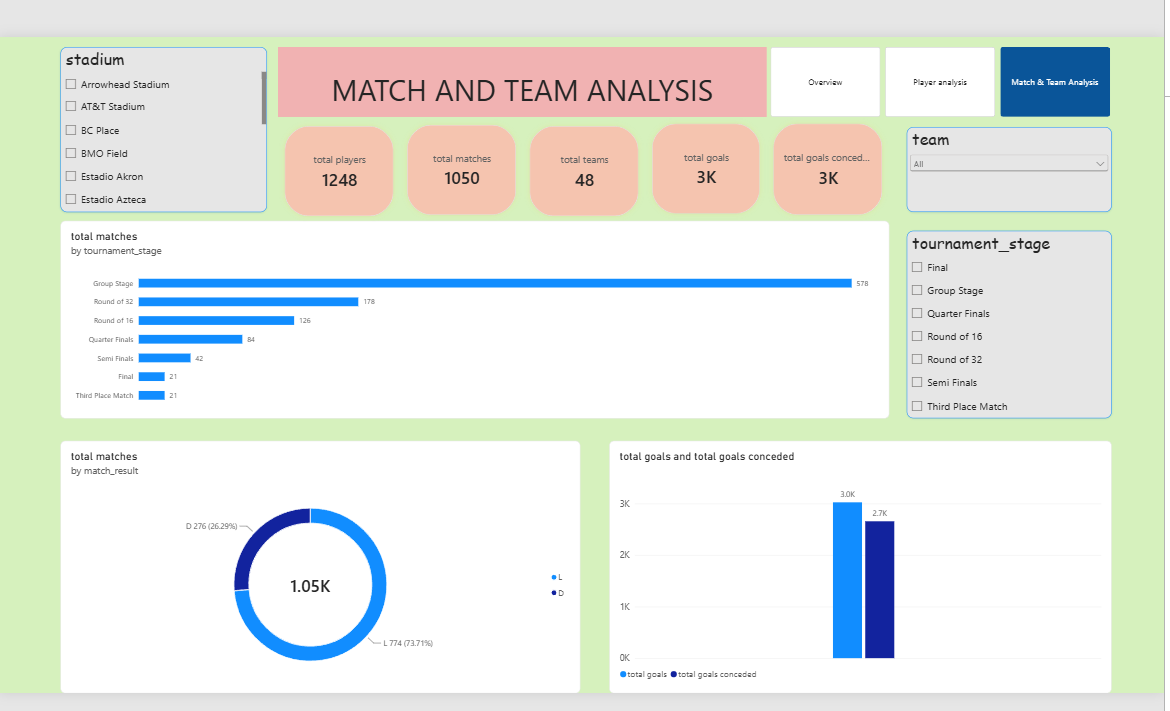

What the dashboard file says about the page in this screenshot:
{"tool":"powerbi","page":{"name":"Match & Team Analysis","canvas":[1920,1080],"ordinal":2},"visuals":[{"type":"cardVisual","fields":{"Data":["fifa_world_cup matches.total matches"]},"box":[662.8,133.8,201.7,170.8],"z":0},{"type":"cardVisual","fields":{"Data":["fifa_world_cup matches.total teams"]},"box":[864.5,135.8,201.7,170.8],"z":1},{"type":"cardVisual","fields":{"Data":["fifa_world_cup matches.total goals"]},"box":[1066.2,131.7,199.7,170.8],"z":2},{"type":"clusteredColumnChart","fields":{"Y":["fifa_world_cup matches.total goals","fifa_world_cup matches.total goals conceded"]},"box":[1006.5,664.8,827.4,415.8],"z":3},{"type":"cardVisual","fields":{"Data":["fifa_world_cup matches.total goals conceded"]},"box":[1265.9,131.7,201.7,172.9],"z":4},{"type":"barChart","fields":{"Y":["fifa_world_cup matches.total matches"],"Category":["fifa_world_cup matches.tournament_stage"]},"box":[102.9,310.8,1364.7,325.2],"z":5},{"type":"donutChart","fields":{"Y":["fifa_world_cup matches.total matches"],"Category":["fifa_world_cup matches.match_result"]},"box":[102.9,664.8,856.3,415.8],"z":6},{"type":"slicer","fields":{"Values":["fifa_world_cup matches.tournament_stage"]},"box":[1496.4,319,337.6,308.7],"z":7},{"type":"slicer","fields":{"Values":["fifa_world_cup players.team"]},"box":[1496.4,148.2,337.6,140],"z":8},{"type":"textbox","box":[461.1,16.5,804.8,115.3],"z":9},{"type":"pageNavigator","box":[1272,16.5,561.9,115.3],"z":10},{"type":"cardVisual","fields":{"Data":["fifa_world_cup matches.total players"]},"box":[461.1,135.8,201.7,170.8],"z":11},{"type":"slicer","fields":{"Values":["fifa_world_cup matches.stadium"]},"box":[102.9,16.5,339.6,271.7],"z":12}]}

Visuals, with their boxes on the page's 1920x1080 design canvas (x1, y1, x2, y2). These are canvas units, not pixel positions in the 1170x711 screenshot, which may show the page scaled, cropped or inside an application window:
cardVisual - fifa_world_cup matches.total matches: left=663, top=134, right=864, bottom=305
cardVisual - fifa_world_cup matches.total teams: left=864, top=136, right=1066, bottom=307
cardVisual - fifa_world_cup matches.total goals: left=1066, top=132, right=1266, bottom=302
clusteredColumnChart - fifa_world_cup matches.total goals x fifa_world_cup matches.total goals conceded: left=1006, top=665, right=1834, bottom=1081
cardVisual - fifa_world_cup matches.total goals conceded: left=1266, top=132, right=1468, bottom=305
barChart - fifa_world_cup matches.total matches x fifa_world_cup matches.tournament_stage: left=103, top=311, right=1468, bottom=636
donutChart - fifa_world_cup matches.total matches x fifa_world_cup matches.match_result: left=103, top=665, right=959, bottom=1081
slicer - fifa_world_cup matches.tournament_stage: left=1496, top=319, right=1834, bottom=628
slicer - fifa_world_cup players.team: left=1496, top=148, right=1834, bottom=288
textbox: left=461, top=16, right=1266, bottom=132
pageNavigator: left=1272, top=16, right=1834, bottom=132
cardVisual - fifa_world_cup matches.total players: left=461, top=136, right=663, bottom=307
slicer - fifa_world_cup matches.stadium: left=103, top=16, right=442, bottom=288
